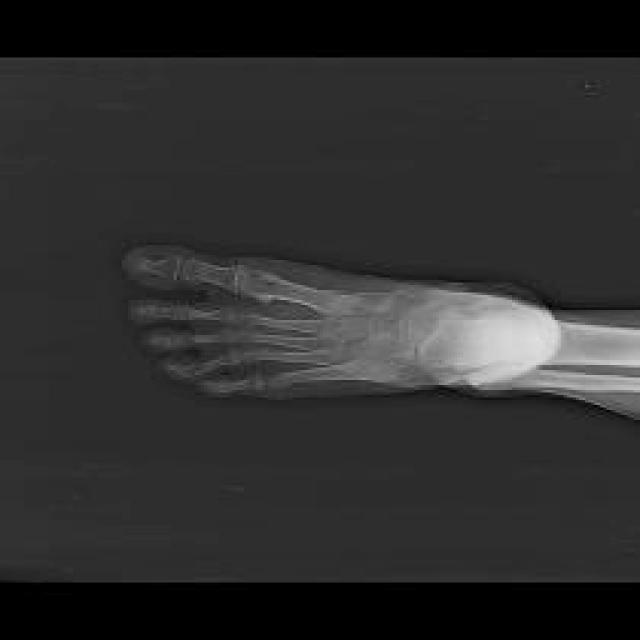normal: (123, 253, 640, 393)
